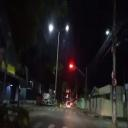NoEstacionar: (112, 77, 118, 88)
